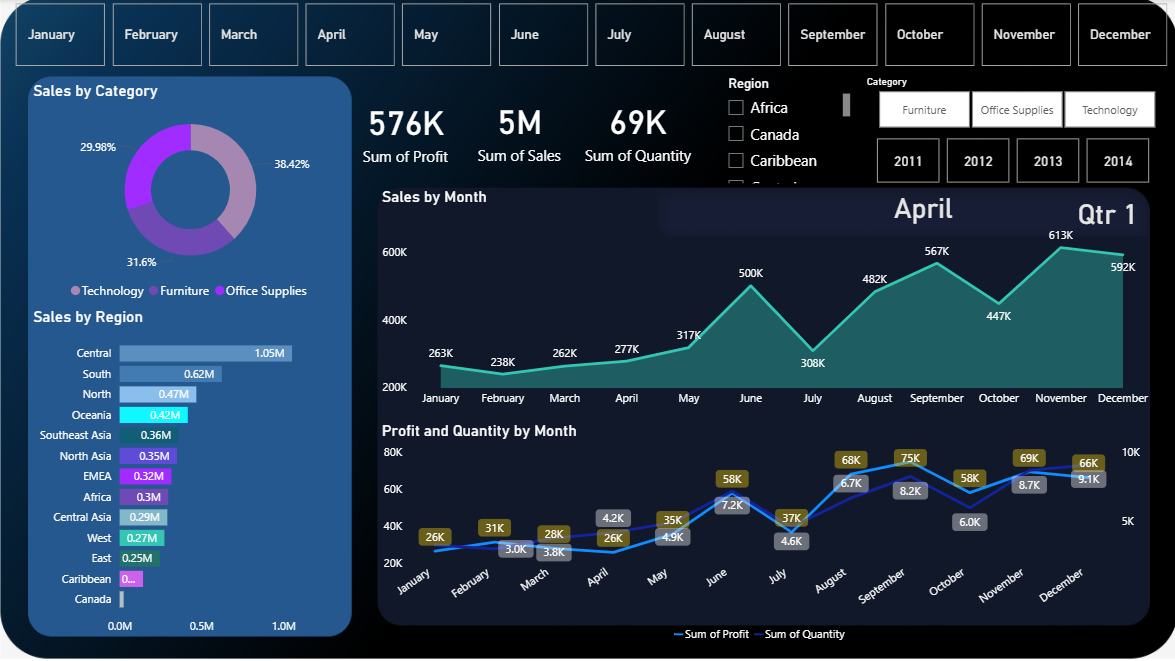

The page's visual inventory and layout, read from the dashboard file:
{"tool":"powerbi","page":{"name":"Dashboard","canvas":[1280,720],"ordinal":0},"visuals":[{"type":"donutChart","title":"Sales by Category","fields":{"Y":["Sum(cleaned_superstore_data.Sales)"],"Category":["cleaned_superstore_data.Category"]},"box":[31.3,89.7,352,246],"z":0},{"type":"clusteredBarChart","title":"Sales by Region","fields":{"Y":["Sum(cleaned_superstore_data.Sales)"],"Category":["cleaned_superstore_data.Region"]},"box":[31.3,335.7,352,364.2],"z":1000},{"type":"lineChart","title":"Sales by Month","fields":{"Y":["Sum(cleaned_superstore_data.Sales)"],"Category":["cleaned_superstore_data.Order Date.Variation.Date Hierarchy.Month"]},"box":[410.3,205.8,846.7,247],"z":2000},{"type":"lineChart","title":"Profit and Quantity by Month","fields":{"Category":["cleaned_superstore_data.Order Date.Variation.Date Hierarchy.Month"],"Y":["Sum(cleaned_superstore_data.Profit)"],"Y2":["Sum(cleaned_superstore_data.Quantity)"]},"box":[410.3,459.7,834.3,249.7],"z":3000},{"type":"card","fields":{"Values":["Min(cleaned_superstore_data.Order Date.Variation.Date Hierarchy.Quarter)"]},"box":[1152.7,189.4,104.3,86.4],"z":4000},{"type":"card","fields":{"Values":["Min(cleaned_superstore_data.Order Date.Variation.Date Hierarchy.Month)"]},"box":[901.5,177,205.8,98.8],"z":5000},{"type":"advancedSlicerVisual","fields":{"Values":["cleaned_superstore_data.Order Date.Variation.Date Hierarchy.Year"]},"box":[948.7,146.8,308.5,58.4],"z":6000},{"type":"advancedSlicerVisual","fields":{"Values":["cleaned_superstore_data.Order Date.Variation.Date Hierarchy.Month"]},"box":[12.2,0,1268,78.8],"z":7000},{"type":"slicer","fields":{"Values":["cleaned_superstore_data.Category"]},"box":[929.6,78.8,350.6,68],"z":8000},{"type":"slicer","fields":{"Values":["cleaned_superstore_data.Region"]},"box":[778.8,78.8,150.9,126.4],"z":9000},{"type":"card","fields":{"Values":["Sum(cleaned_superstore_data.Profit)"]},"box":[342.5,78.8,197.1,127.8],"z":9001},{"type":"card","fields":{"Values":["Sum(cleaned_superstore_data.Sales)"]},"box":[466.2,77.5,197.1,127.8],"z":9002},{"type":"card","fields":{"Values":["Sum(cleaned_superstore_data.Quantity)"]},"box":[595.3,77.5,197.1,127.8],"z":9003}]}

Visuals, with their boxes in screenshot pixels (x1, y1, x2, y2), scaled from the page's 1280x720 canvas onto the 1175x661 screenshot:
"Sales by Category" donutChart: {"x1": 29, "y1": 82, "x2": 352, "y2": 308}
"Sales by Region" clusteredBarChart: {"x1": 29, "y1": 308, "x2": 352, "y2": 643}
"Sales by Month" lineChart: {"x1": 377, "y1": 189, "x2": 1154, "y2": 416}
"Profit and Quantity by Month" lineChart: {"x1": 377, "y1": 422, "x2": 1143, "y2": 651}
card - Min(cleaned_superstore_data.Order Date.Variation.Date Hierarchy.Quarter): {"x1": 1058, "y1": 174, "x2": 1154, "y2": 253}
card - Min(cleaned_superstore_data.Order Date.Variation.Date Hierarchy.Month): {"x1": 828, "y1": 162, "x2": 1016, "y2": 253}
advancedSlicerVisual - cleaned_superstore_data.Order Date.Variation.Date Hierarchy.Year: {"x1": 871, "y1": 135, "x2": 1154, "y2": 188}
advancedSlicerVisual - cleaned_superstore_data.Order Date.Variation.Date Hierarchy.Month: {"x1": 11, "y1": 0, "x2": 1174, "y2": 72}
slicer - cleaned_superstore_data.Category: {"x1": 853, "y1": 72, "x2": 1174, "y2": 135}
slicer - cleaned_superstore_data.Region: {"x1": 715, "y1": 72, "x2": 853, "y2": 188}
card - Sum(cleaned_superstore_data.Profit): {"x1": 314, "y1": 72, "x2": 495, "y2": 190}
card - Sum(cleaned_superstore_data.Sales): {"x1": 428, "y1": 71, "x2": 609, "y2": 188}
card - Sum(cleaned_superstore_data.Quantity): {"x1": 546, "y1": 71, "x2": 727, "y2": 188}
